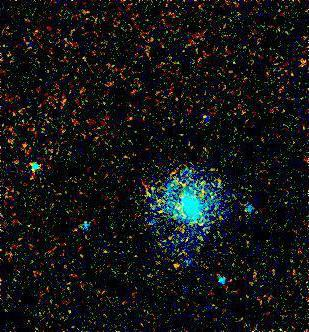star: (161, 250, 191, 280)
